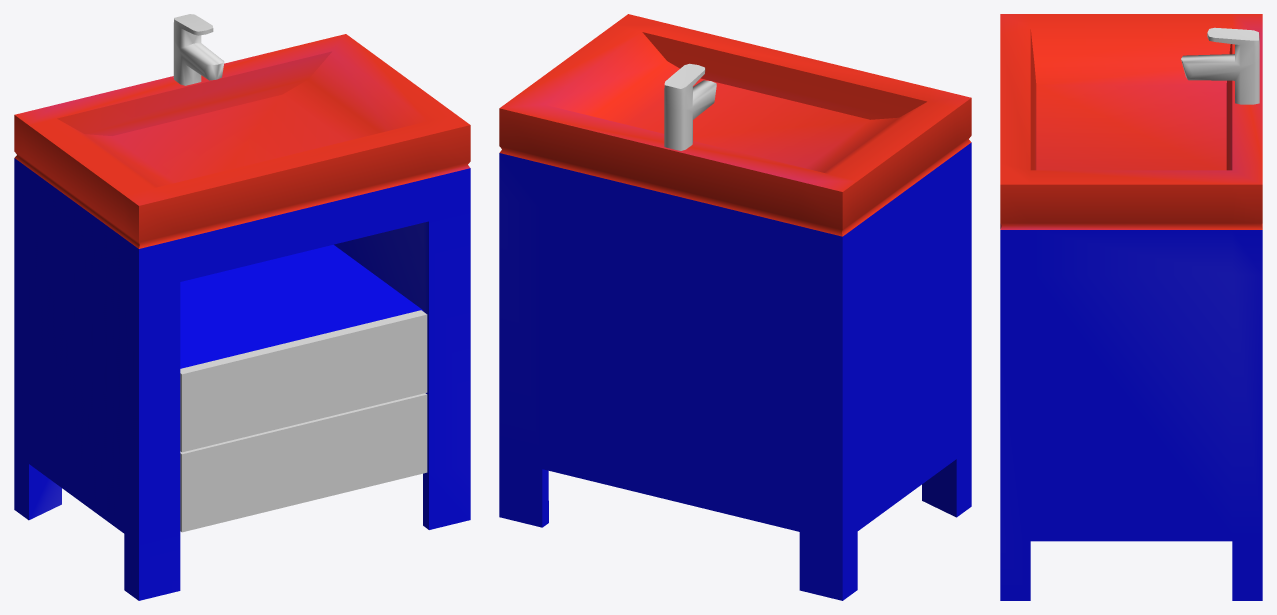
The model's file is Basin_furniture.fbx.
The picture shows the model from 3 angles, left to right: view 1: azimuth 30°, elevation 25°; view 2: azimuth 150°, elevation 25°; view 3: azimuth 270°, elevation 25°; orthographic projection. The views are drawn at different scales.
Parts seen in each view (by area): view 1: structure, basin, drawer2, drawer1, tap; view 2: structure, basin, tap; view 3: structure, basin, tap.
Part boxes in pixels (bbox=[...]): structure: bbox=[14, 158, 470, 600]; basin: bbox=[14, 34, 470, 248]; drawer2: bbox=[180, 310, 427, 452]; drawer1: bbox=[180, 393, 427, 532]; tap: bbox=[173, 14, 224, 85]; structure: bbox=[499, 142, 971, 600]; basin: bbox=[499, 14, 971, 236]; tap: bbox=[664, 63, 716, 150]; structure: bbox=[1000, 230, 1262, 600]; basin: bbox=[1000, 14, 1262, 229]; tap: bbox=[1181, 27, 1259, 104].
Size of the model in its own units: 79.99 by 106 by 52.01.
